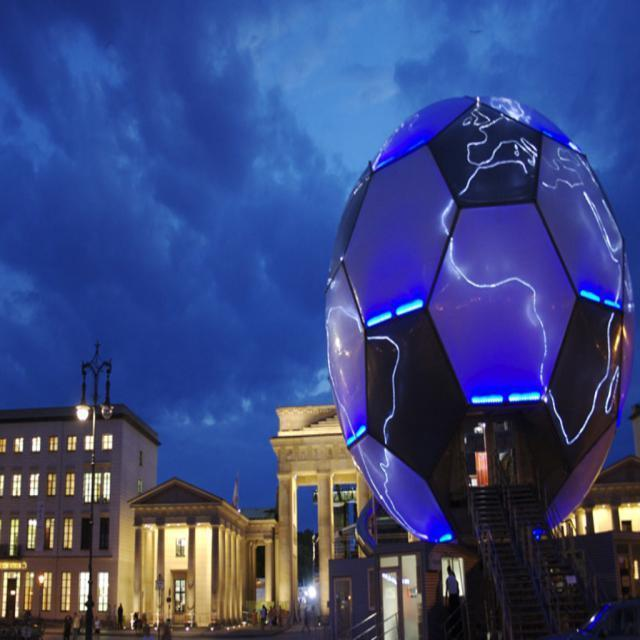ball: (324, 94, 635, 554)
